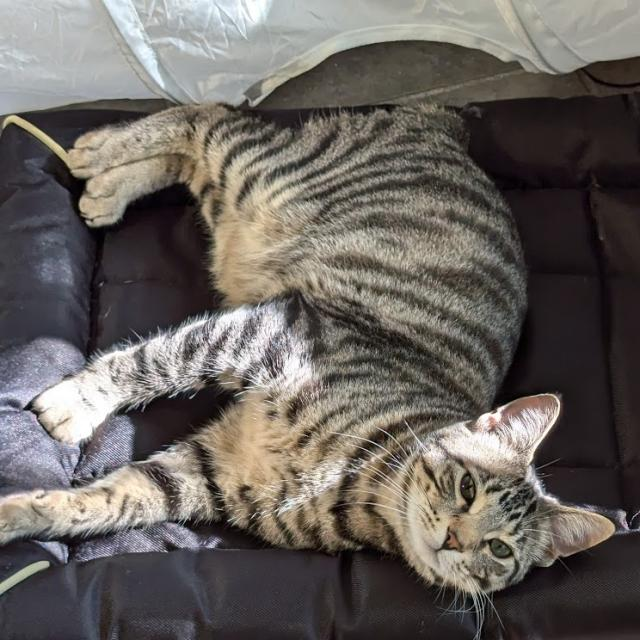manx_cat: (392, 380, 621, 640)
